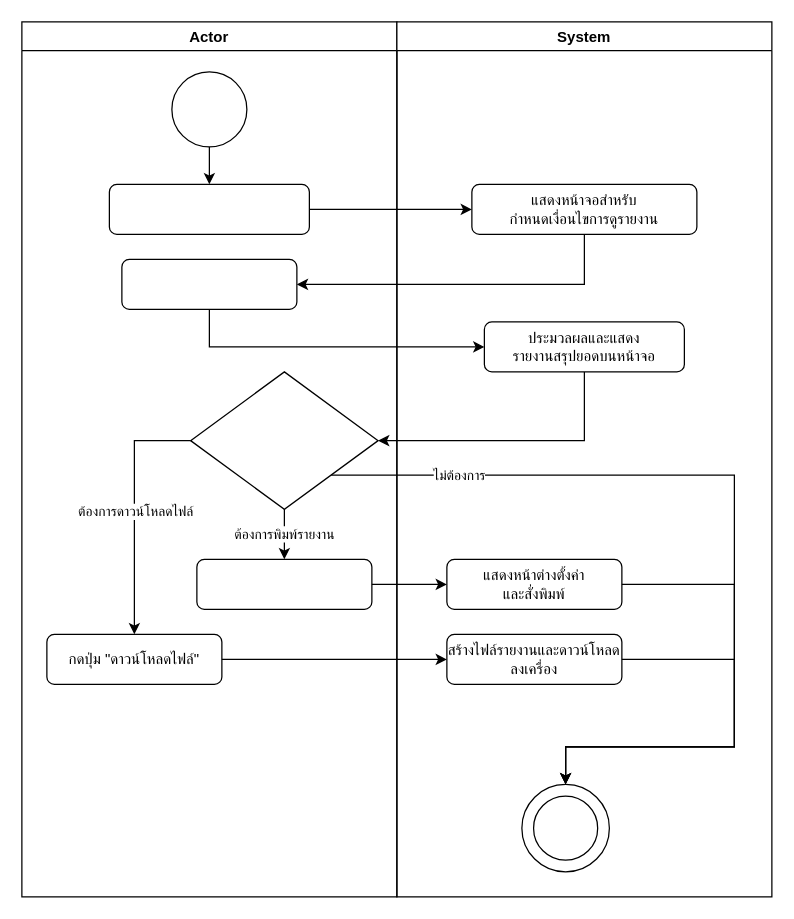
This 794x919 diagram has some shape labels left out. The centre of each missing label's shape, as x and y in pixels:
กดปุ่ม "พิมพ์รายงาน": (284,583)
ต้องการดาวน์โหลด หรือ พิมพ์รายงาน หรือไม่?: (283,440)
เลือกประเภท ช่วงเวลา และกดยืนยัน: (209,283)
เลือกเมนู "รายงานสรุปยอด": (208,208)
